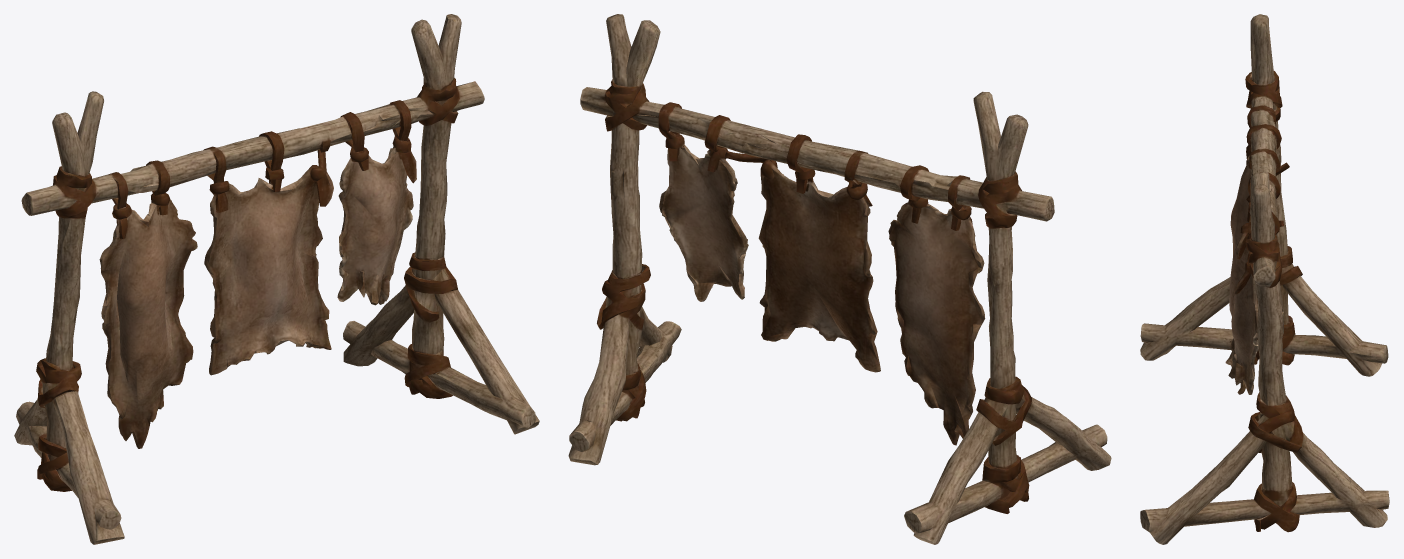
3 views of the same model, side by side, from view 1: azimuth 30°, elevation 25°; view 2: azimuth 150°, elevation 25°; view 3: azimuth 270°, elevation 25° (orthographic). The views are drawn at different scales.
Visible parts, largest first — view 1: drying-rack; view 2: drying-rack; view 3: drying-rack.
Boxes of the visible parts, x1,y1,x2,y2 form: drying-rack: (14, 14, 539, 544); drying-rack: (568, 14, 1111, 544); drying-rack: (1140, 14, 1389, 544).
Bounding box in the file's own units: 2.89 × 2.4 × 1.5.
Materials: 1 (1 with a texture image).
